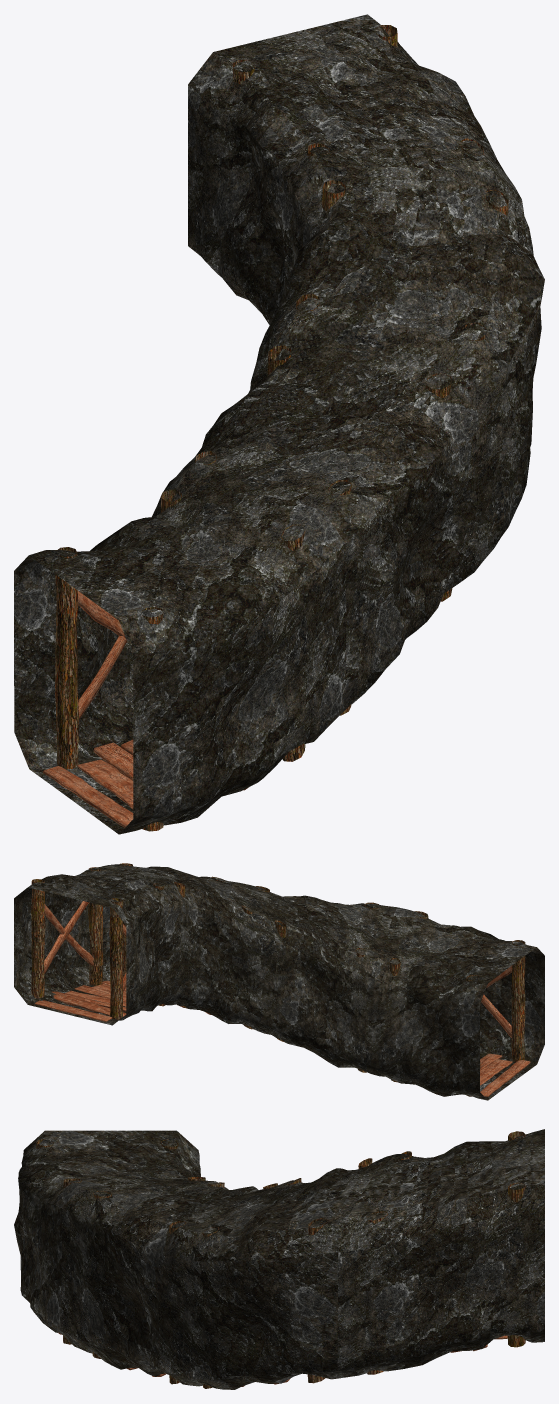
The model's file is Cave_090.fbx.
The picture shows the model from 3 angles, top to bottom: view 1: azimuth 30°, elevation 25°; view 2: azimuth 150°, elevation 25°; view 3: azimuth 270°, elevation 25°; orthographic projection. The views are drawn at different scales.
Visible parts, largest first — view 1: Cave.090; view 2: Cave.090; view 3: Cave.090.
Part boxes in pixels (x1,y1,x2,y2): Cave.090: (14, 14, 544, 834); Cave.090: (14, 863, 544, 1100); Cave.090: (14, 1129, 544, 1389).
Size of the model in its own units: 914 by 612 by 917.
